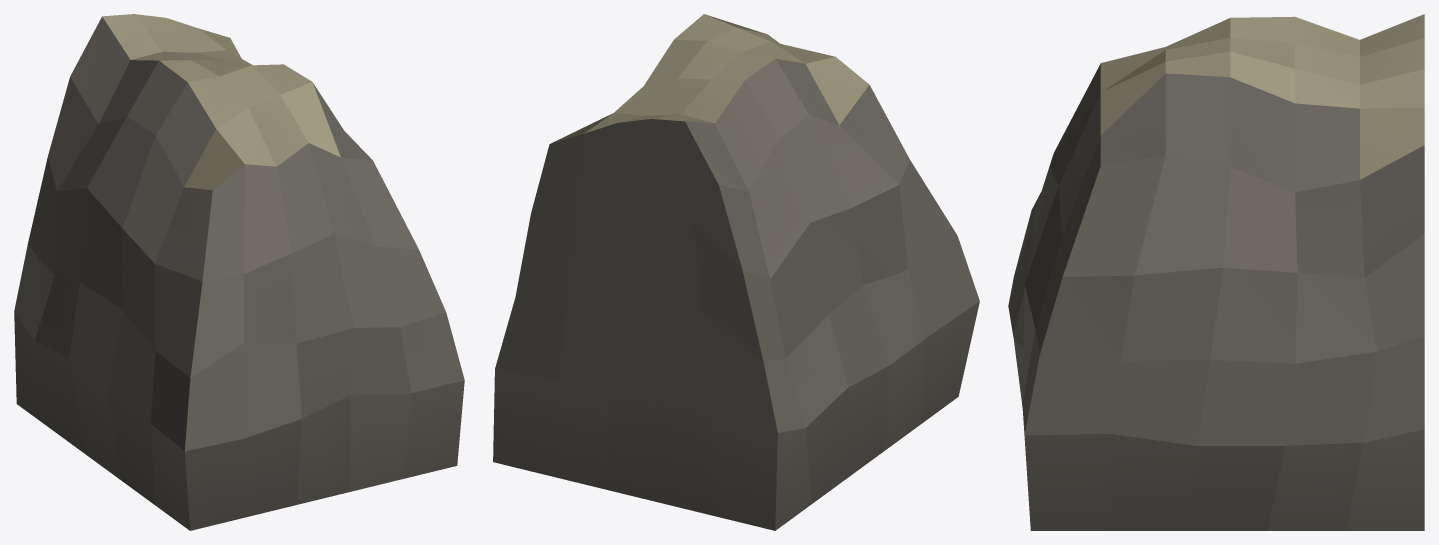
File: roca_punta_2.glb
3 renders of one model, left to right at view 1: azimuth 30°, elevation 25°; view 2: azimuth 150°, elevation 25°; view 3: azimuth 270°, elevation 25°, orthographic. The views are drawn at different scales.
Visible parts, largest first — view 1: propforge-cuartos-roca_punta; view 2: propforge-cuartos-roca_punta; view 3: propforge-cuartos-roca_punta.
Part boxes in pixels (bbox=[...]): propforge-cuartos-roca_punta: bbox=[14, 14, 464, 530]; propforge-cuartos-roca_punta: bbox=[493, 14, 979, 530]; propforge-cuartos-roca_punta: bbox=[1008, 14, 1424, 530].
Size of the model in its own units: 0.8695 by 1.05 by 0.9514.
